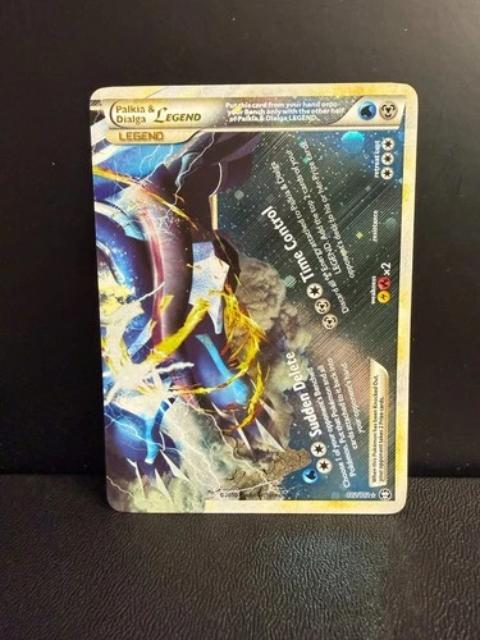Card: (85, 80, 420, 517)
Name: (110, 99, 206, 130)
